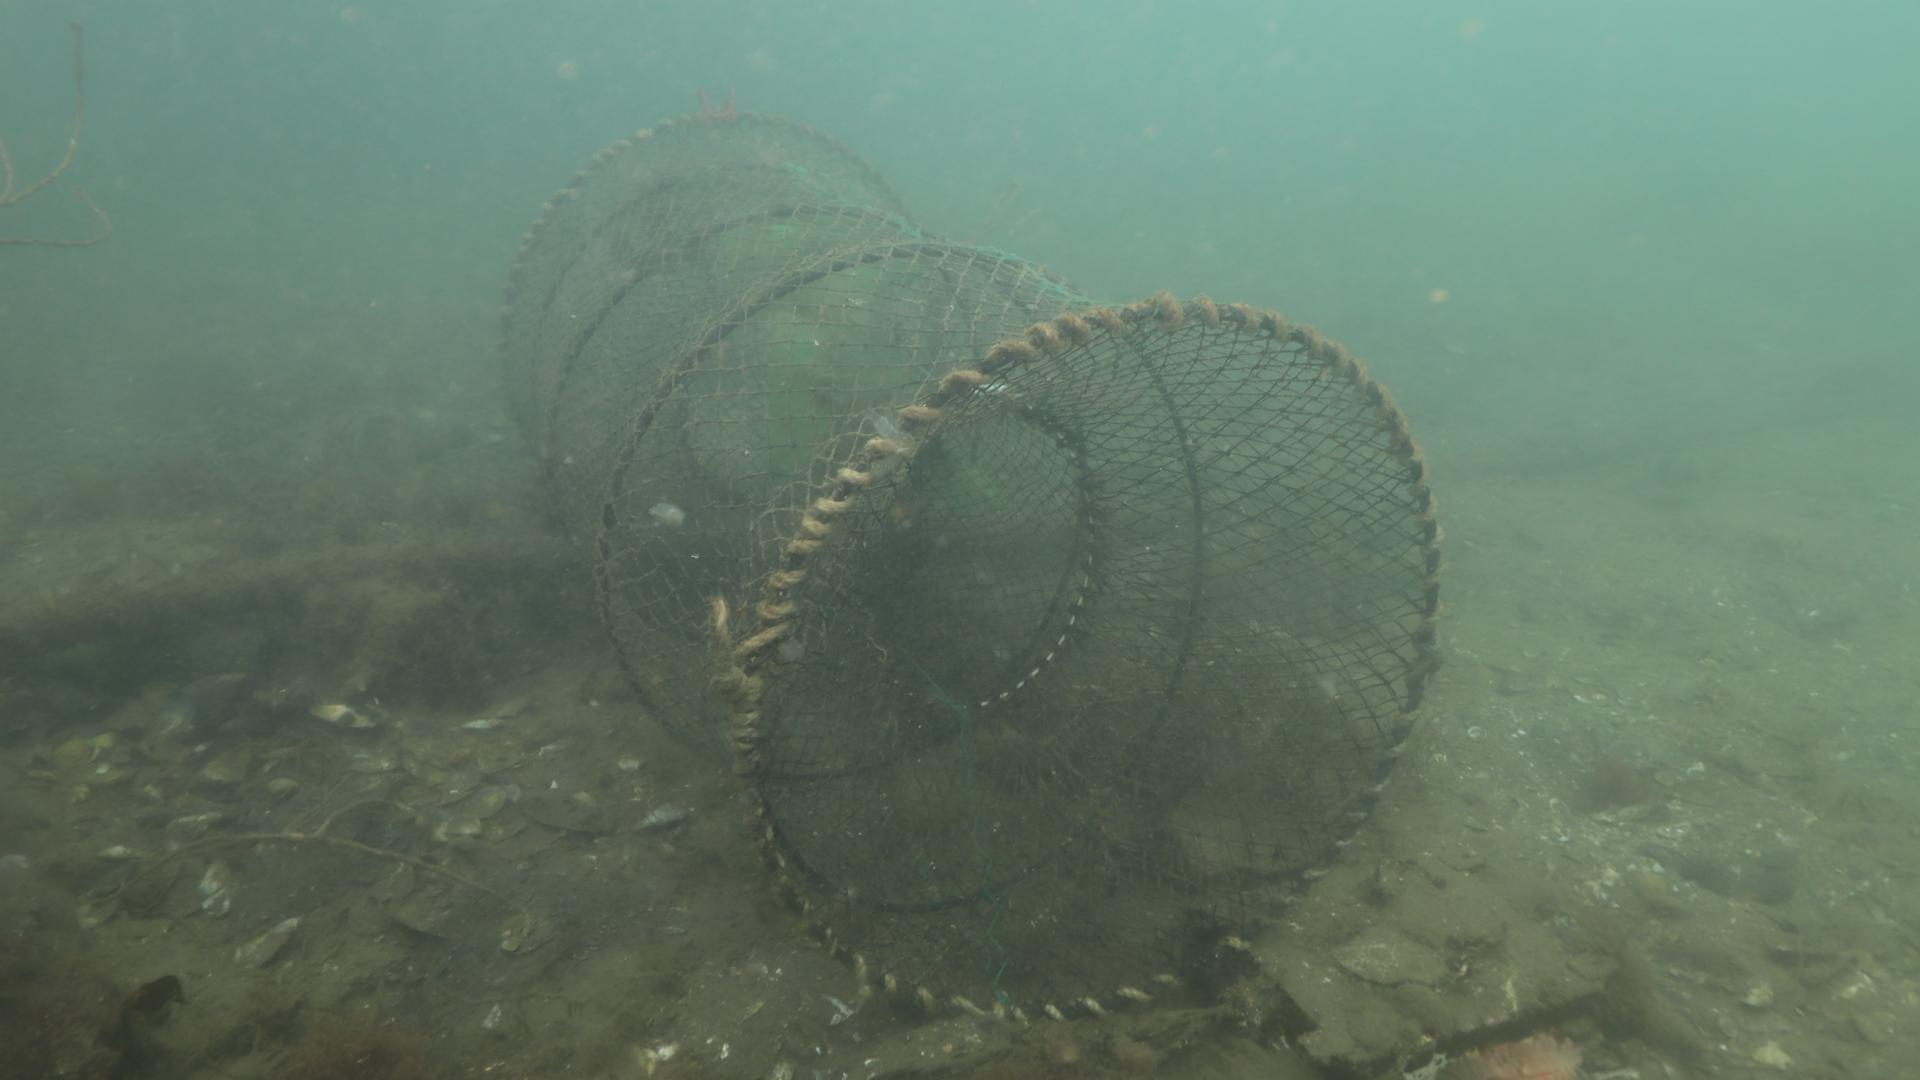spring fish trap: (495, 109, 1444, 1029)
